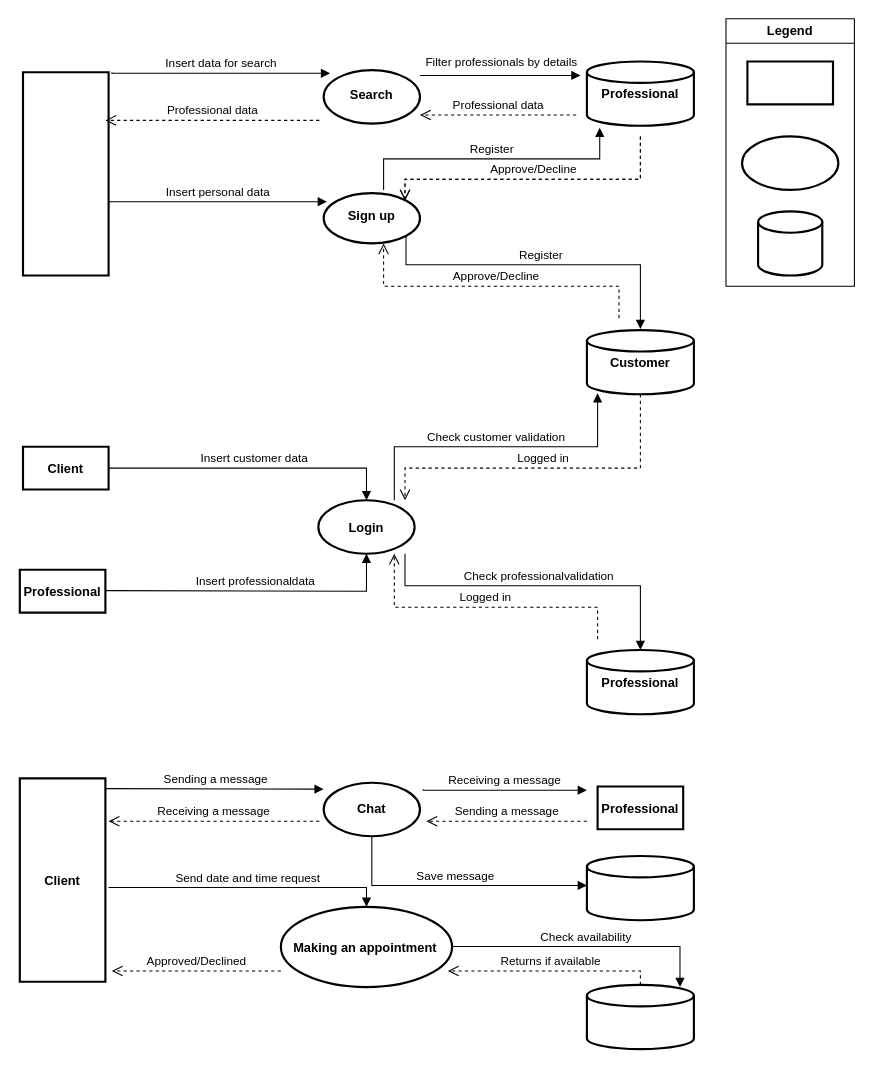
This 873x1069 diagram has some shape labels left out. Here are the shapes that lost their labels. From the top down, the centre of each, then its label:
[790,82]: Entity
[65,173]: Guest
[789,162]: Process
[789,243]: Database
[639,887]: Chat message
[639,1016]: Schedule
